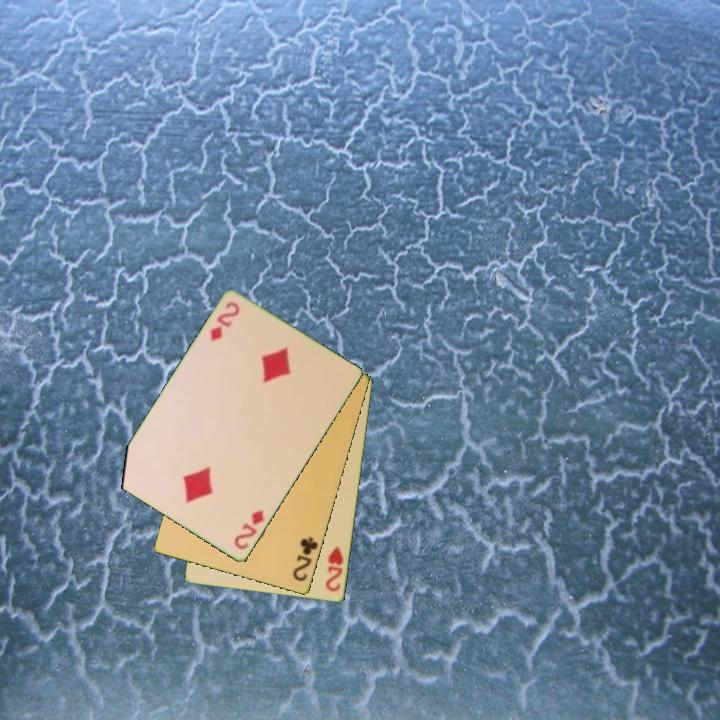2c: (290, 533, 321, 585)
2d: (230, 506, 267, 553), (207, 299, 243, 344)
2h: (322, 543, 347, 595)
